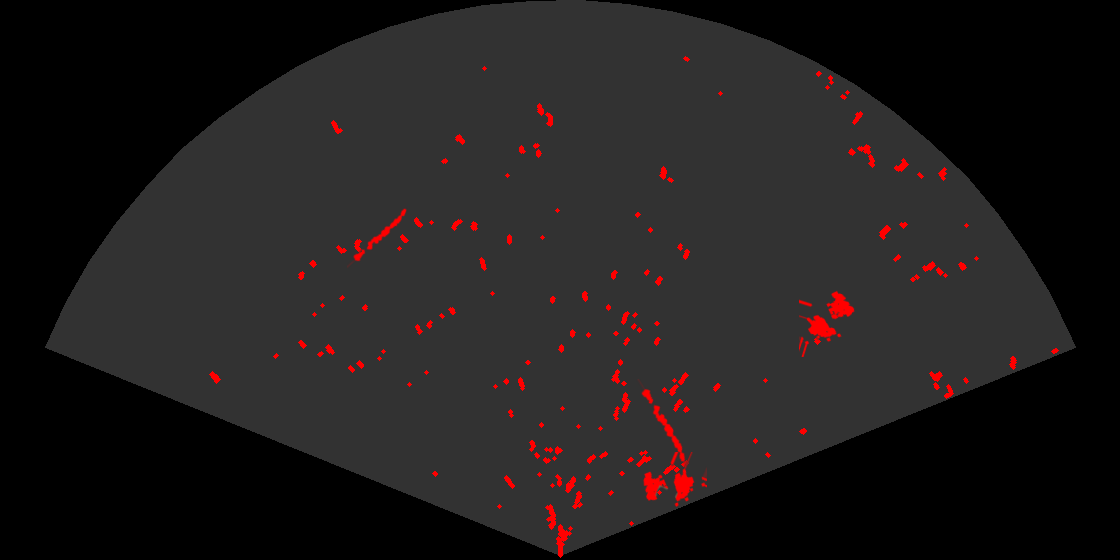cage: (799, 289, 856, 357), (642, 452, 707, 509)
chain: (636, 379, 687, 464), (347, 207, 408, 269)
